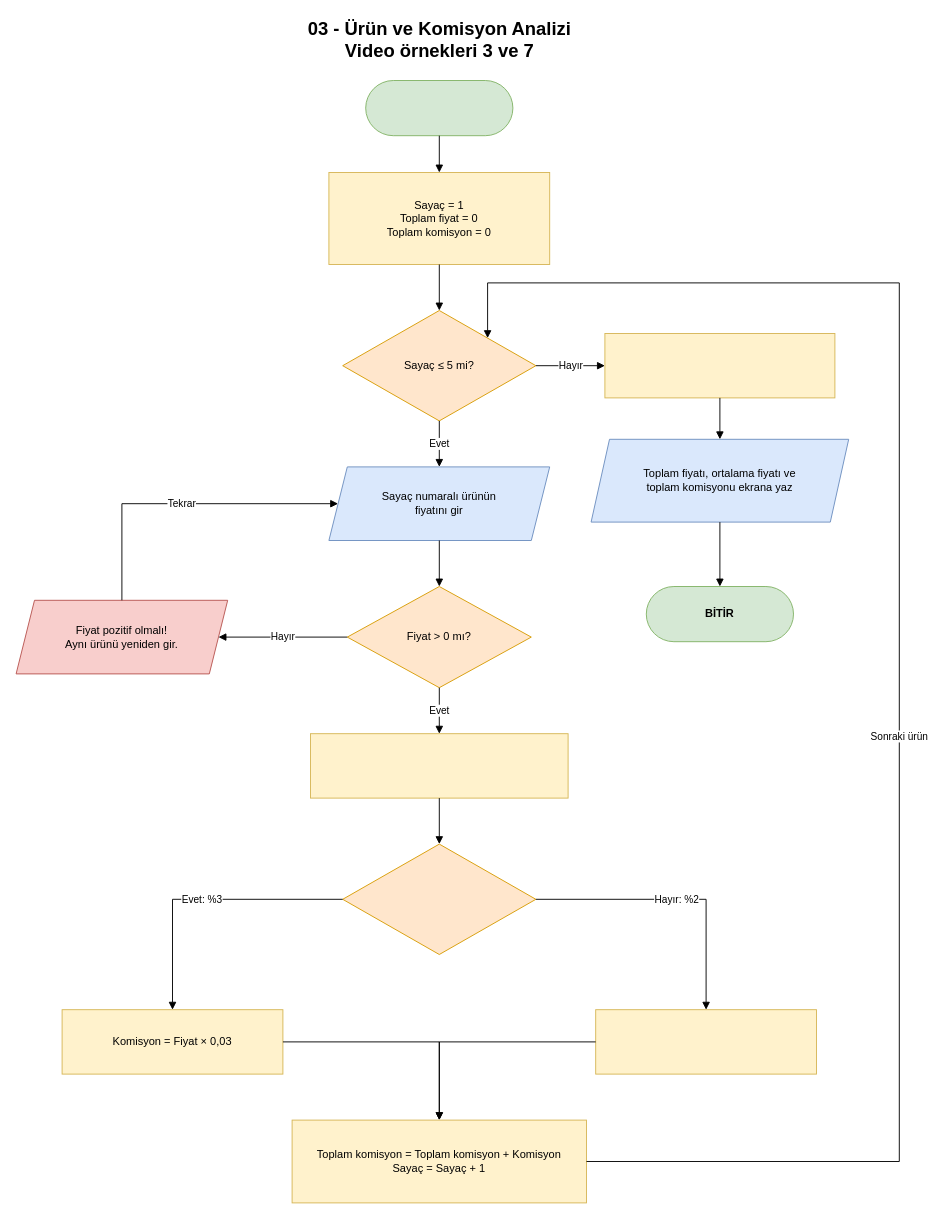
Some shapes in this 944 by 1219 pixel diagram are drawn without their labels. Here are the shapes that lost their labels. From the top down, the centre of each, then its label:
the point at 439,108: BAŞLA
the point at 719,365: Ortalama fiyat = Toplam fiyat / 5
the point at 439,765: Toplam fiyat = Toplam fiyat + Fiyat
the point at 439,898: Fiyat ≤ 50 TL mi?
the point at 705,1041: Komisyon = Fiyat × 0,02
